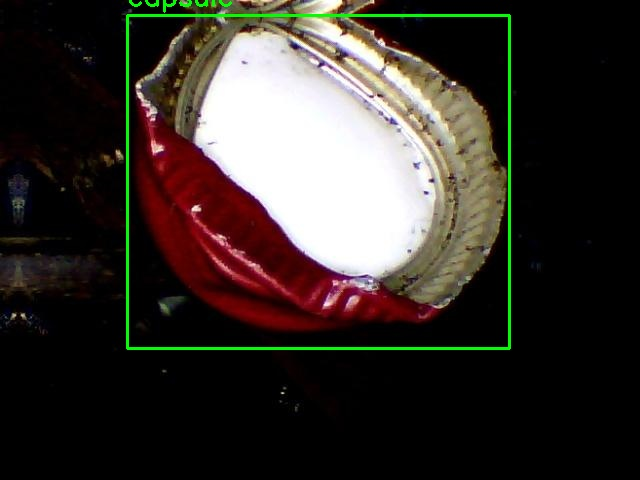capsule: (127, 15, 509, 348)
